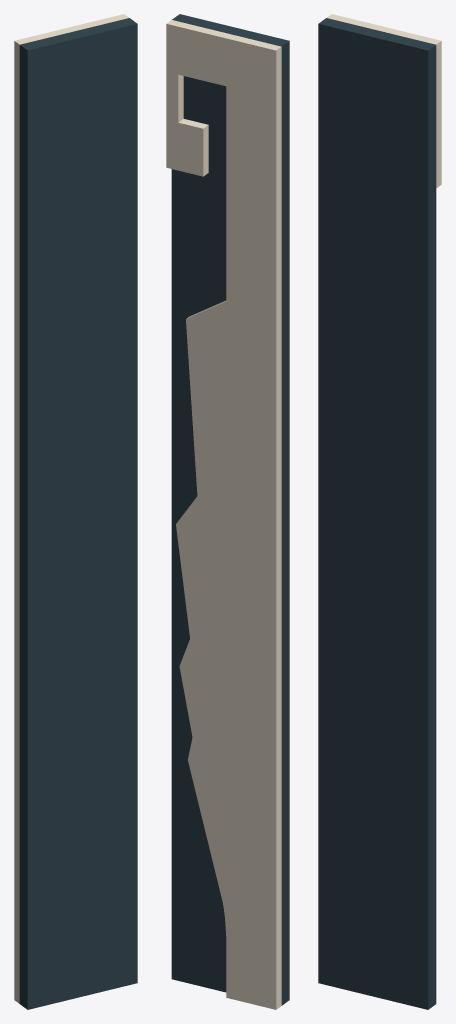
The model's file is Narrow Deco.fbx.
The picture shows the model from 3 angles, left to right: view 1: azimuth 30°, elevation 25°; view 2: azimuth 150°, elevation 25°; view 3: azimuth 330°, elevation 25°; orthographic projection.
Parts seen in each view (by area): view 1: ArtDeco; view 2: ArtDeco; view 3: ArtDeco.
Part boxes in pixels (x1,y1,x2,y2): ArtDeco: [14, 14, 137, 1009]; ArtDeco: [166, 14, 289, 1009]; ArtDeco: [318, 14, 441, 1009].
Bounding box in the file's own units: 120 × 998 × 25.25.
